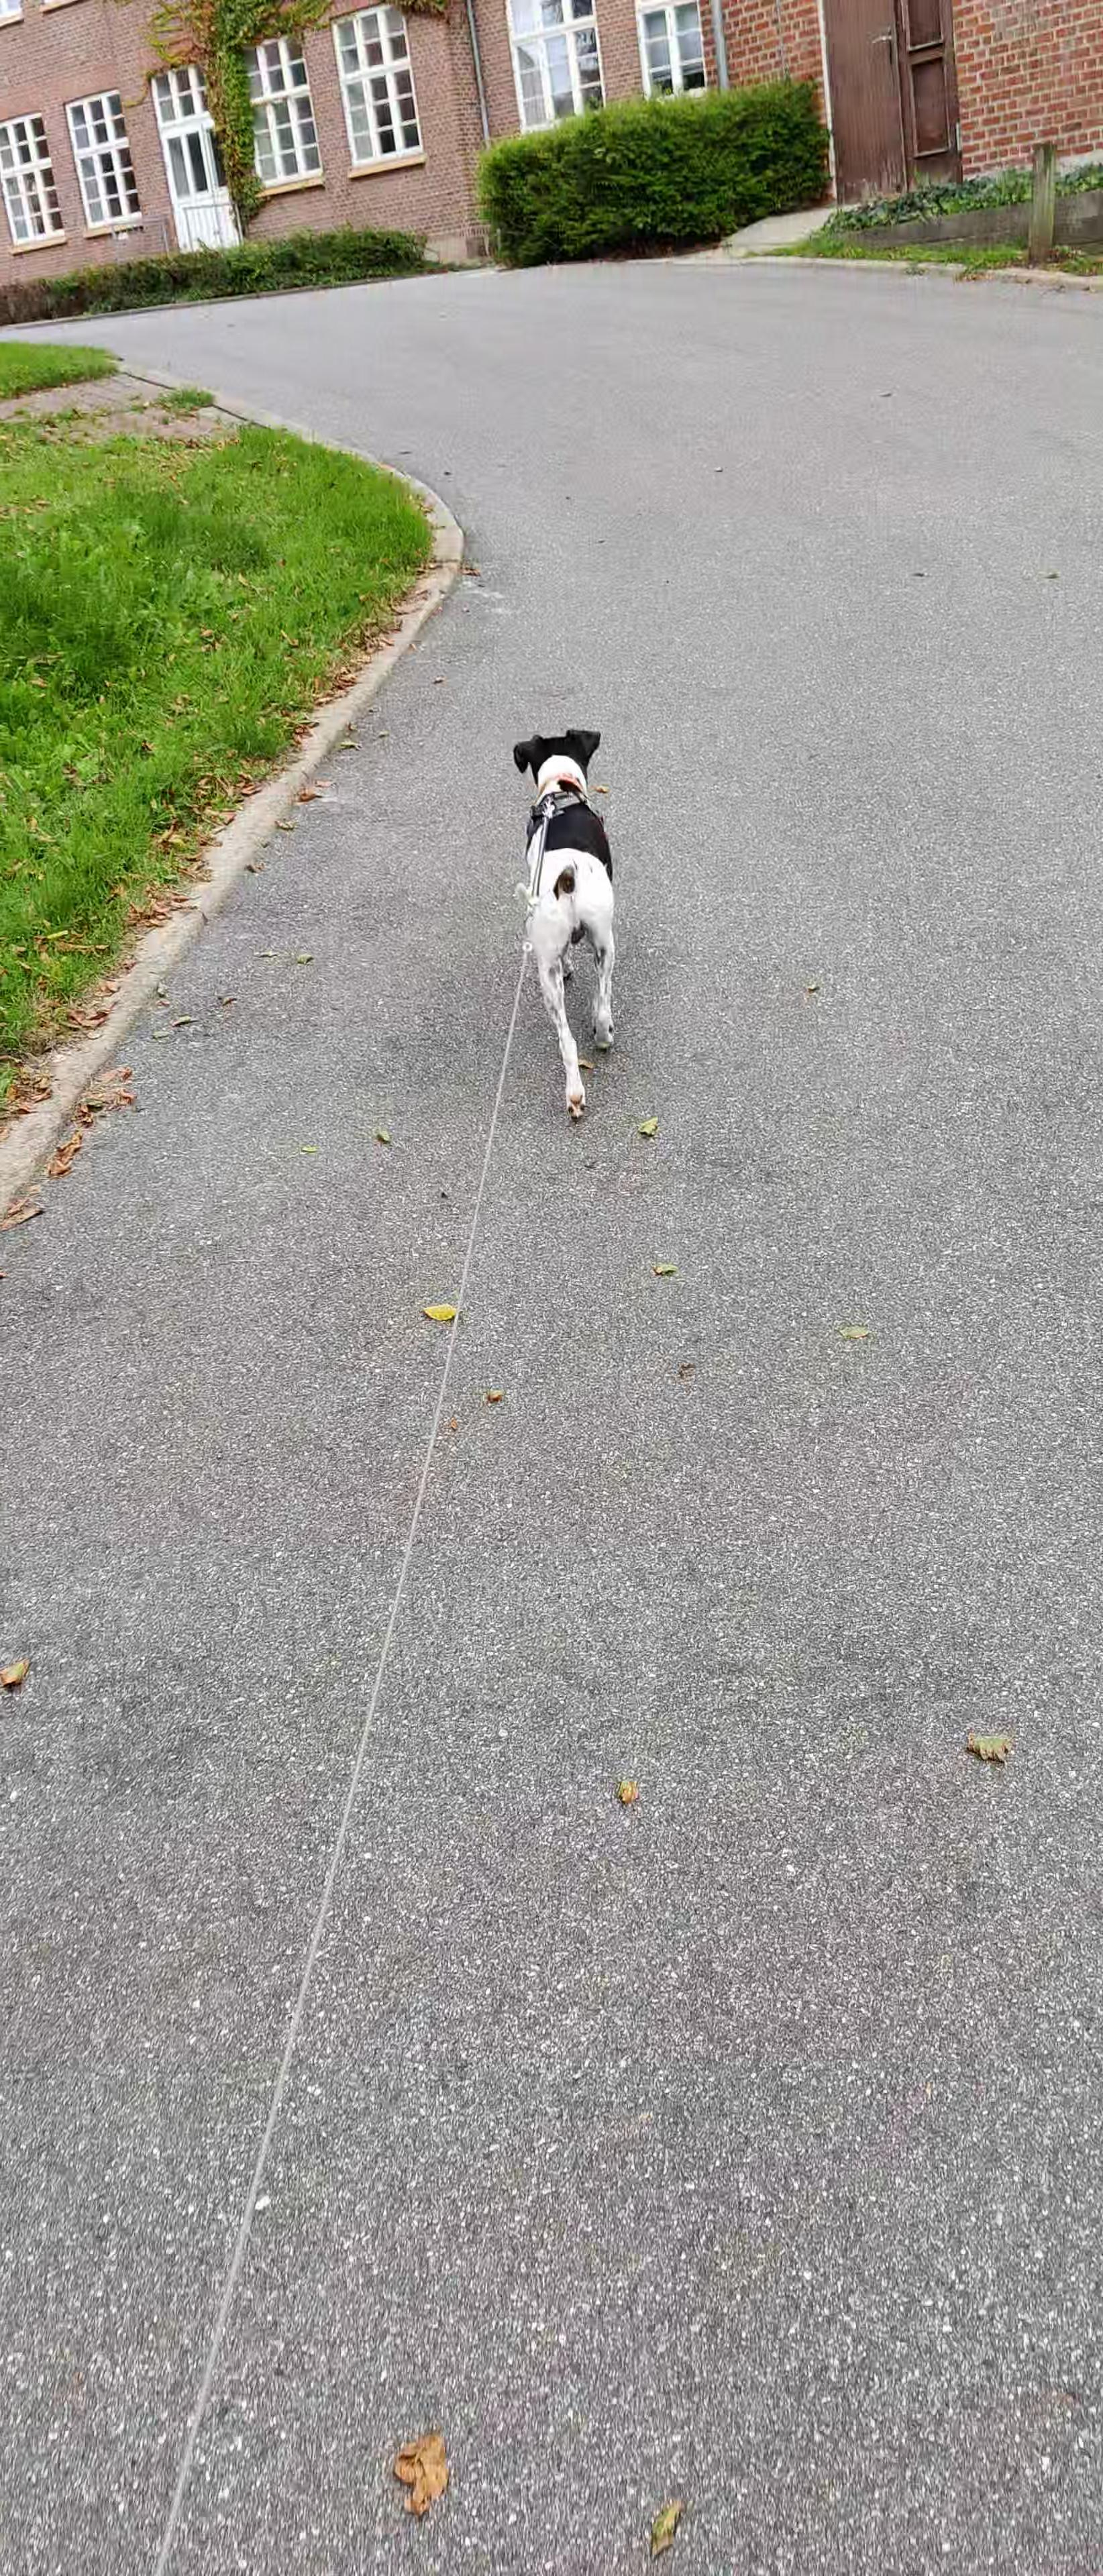Dog: (492, 705, 631, 1132)
